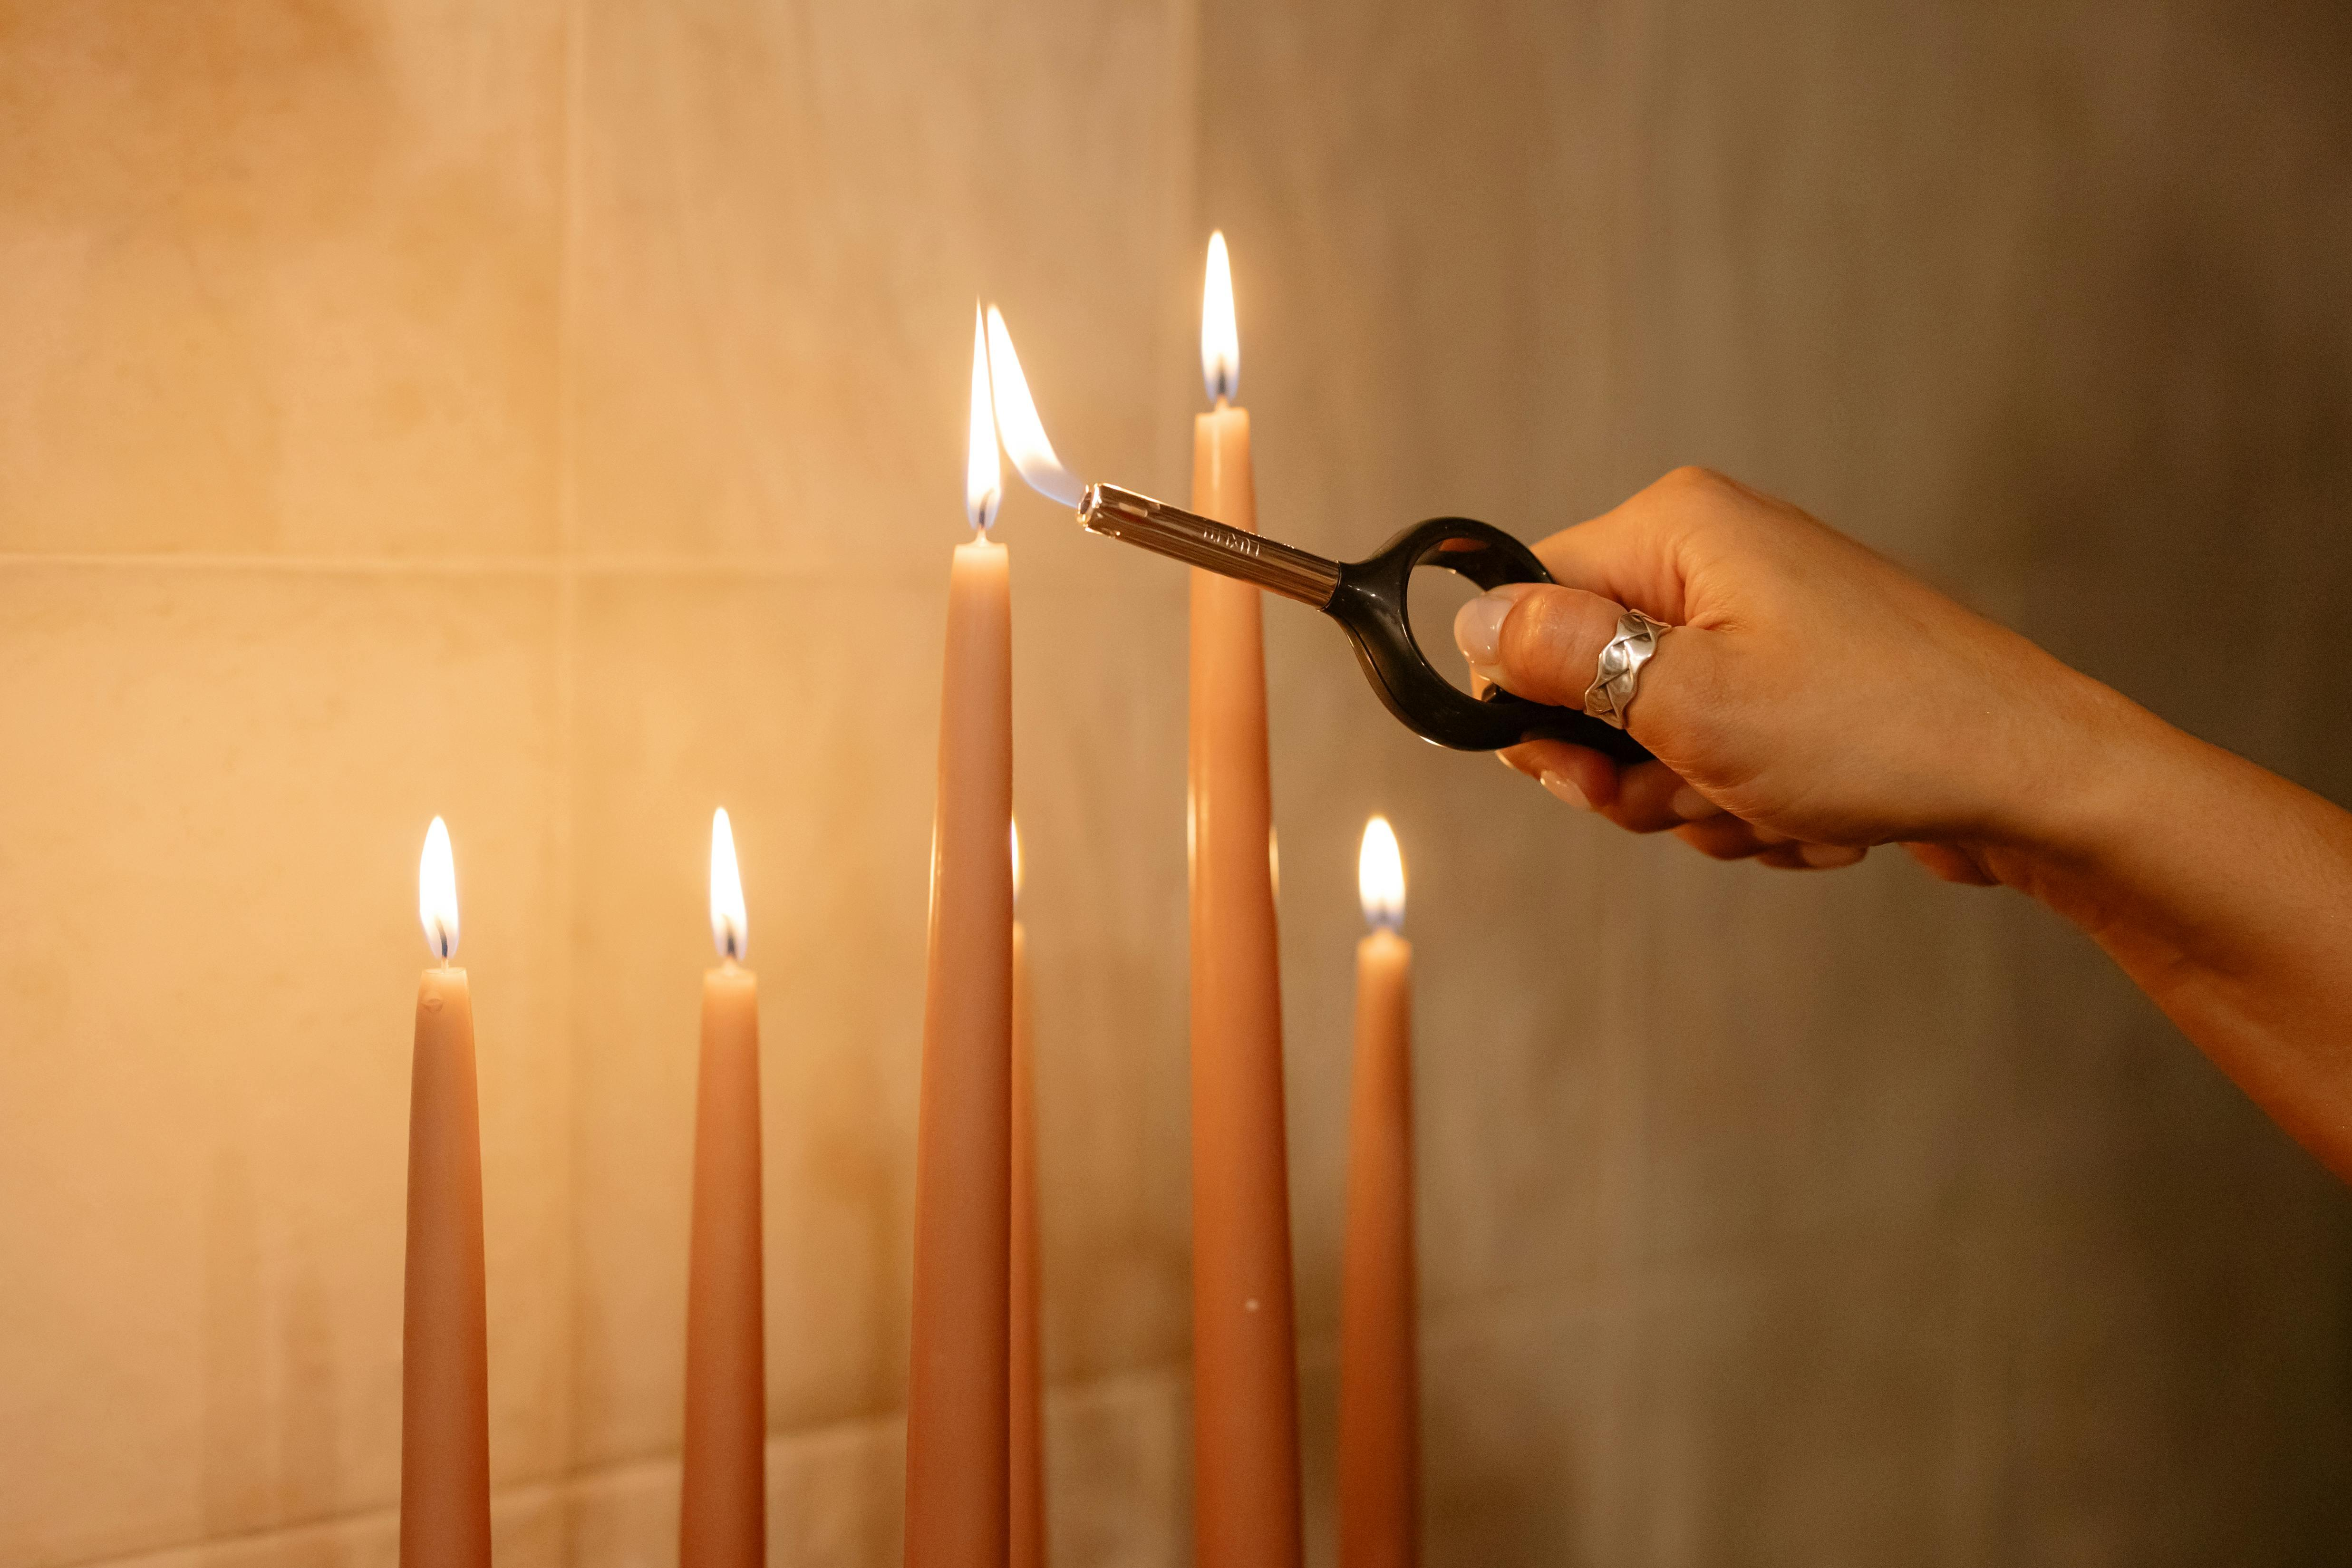Fire: (1001, 318, 1090, 542), (936, 283, 996, 546), (1186, 222, 1256, 409), (402, 808, 481, 959), (1347, 796, 1419, 948), (700, 800, 761, 961)
